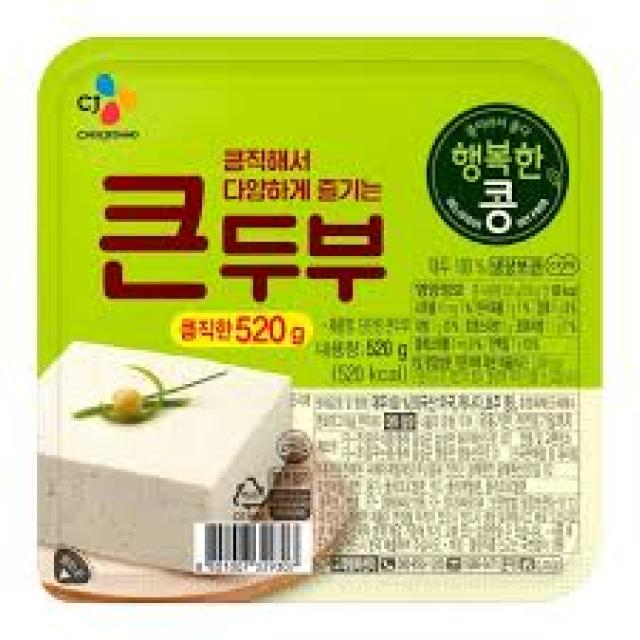tofu: (14, 27, 618, 634), (38, 331, 304, 543)
